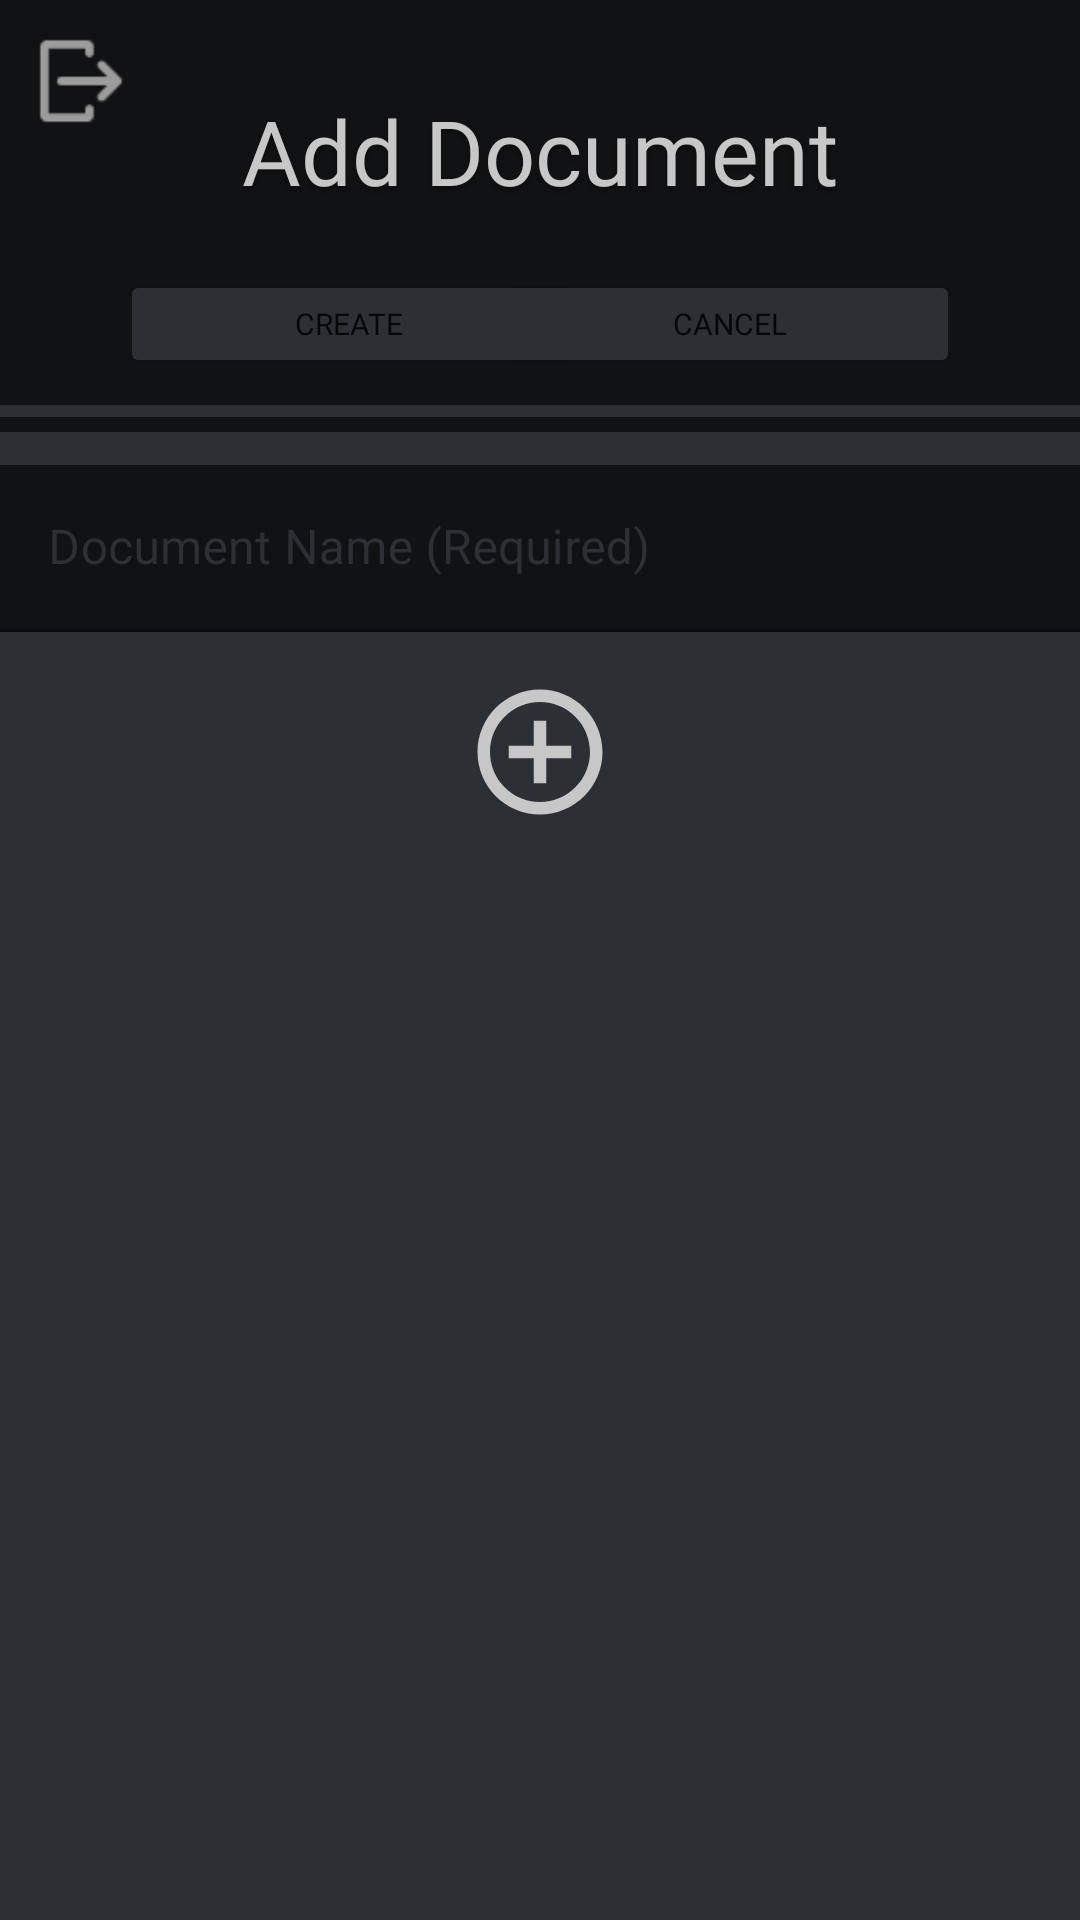

Screen size 1080 x 1920. Icon name, then its box in pixels as region(x1, y1, x2, y2):
add: region(477, 689, 603, 815)
